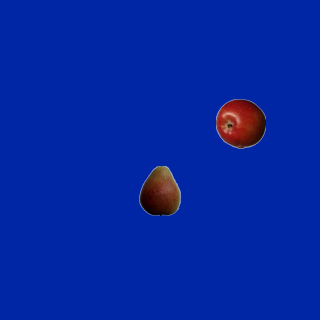Apple Braeburn: (215, 98, 265, 148)
Pear Forelle: (134, 165, 184, 215)
